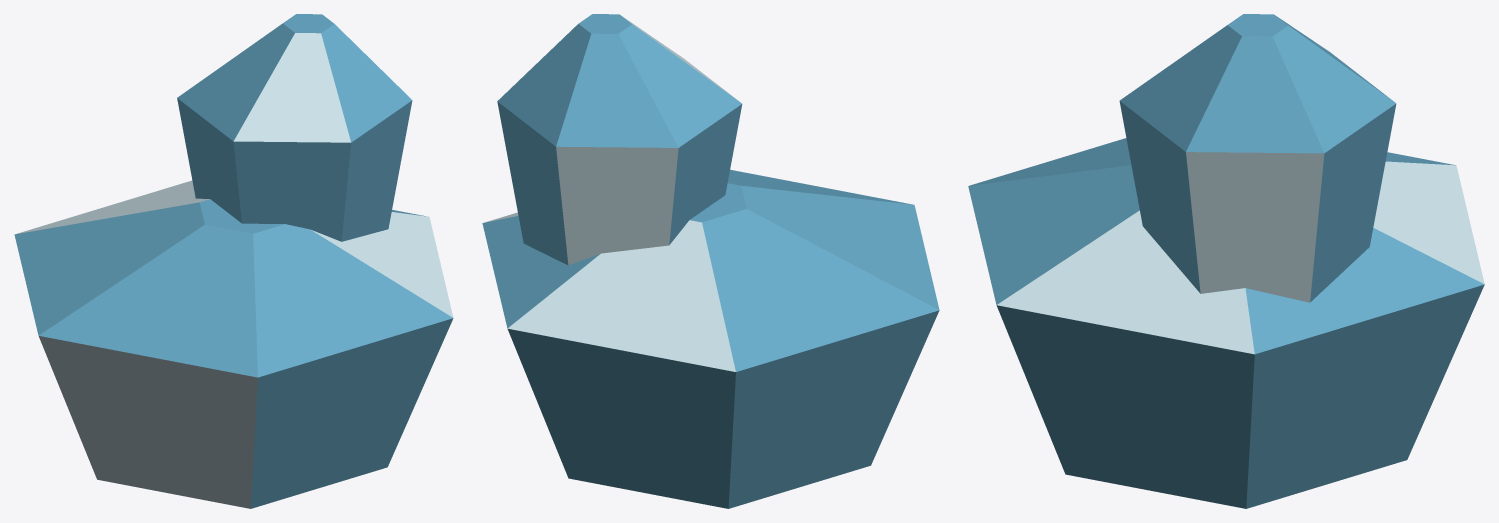
3 renders of one model, left to right at view 1: azimuth 30°, elevation 25°; view 2: azimuth 150°, elevation 25°; view 3: azimuth 270°, elevation 25°, orthographic. The views are drawn at different scales.
Visible parts, largest first — view 1: Ice_Deposit; view 2: Ice_Deposit; view 3: Ice_Deposit.
Boxes of the visible parts, bbox=[...] form: Ice_Deposit: bbox=[14, 14, 453, 508]; Ice_Deposit: bbox=[482, 14, 939, 508]; Ice_Deposit: bbox=[968, 14, 1484, 508].
Size of the model in its own units: 0.8955 by 0.79 by 0.8205.
